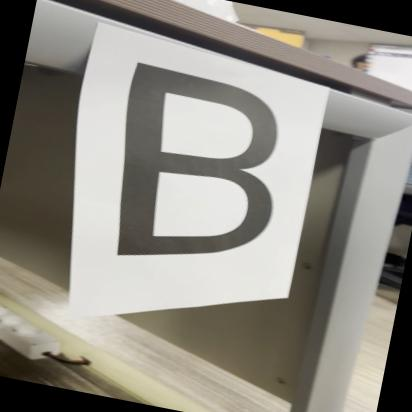seat: (64, 44, 310, 286)
